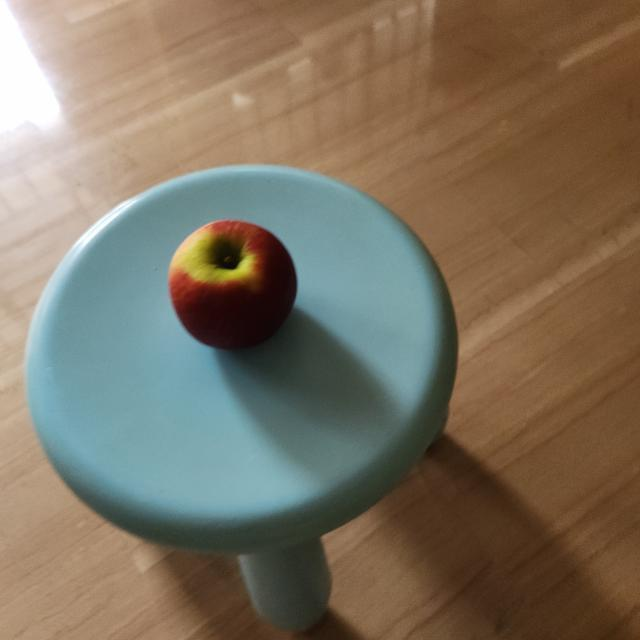apple: (166, 212, 300, 358)
